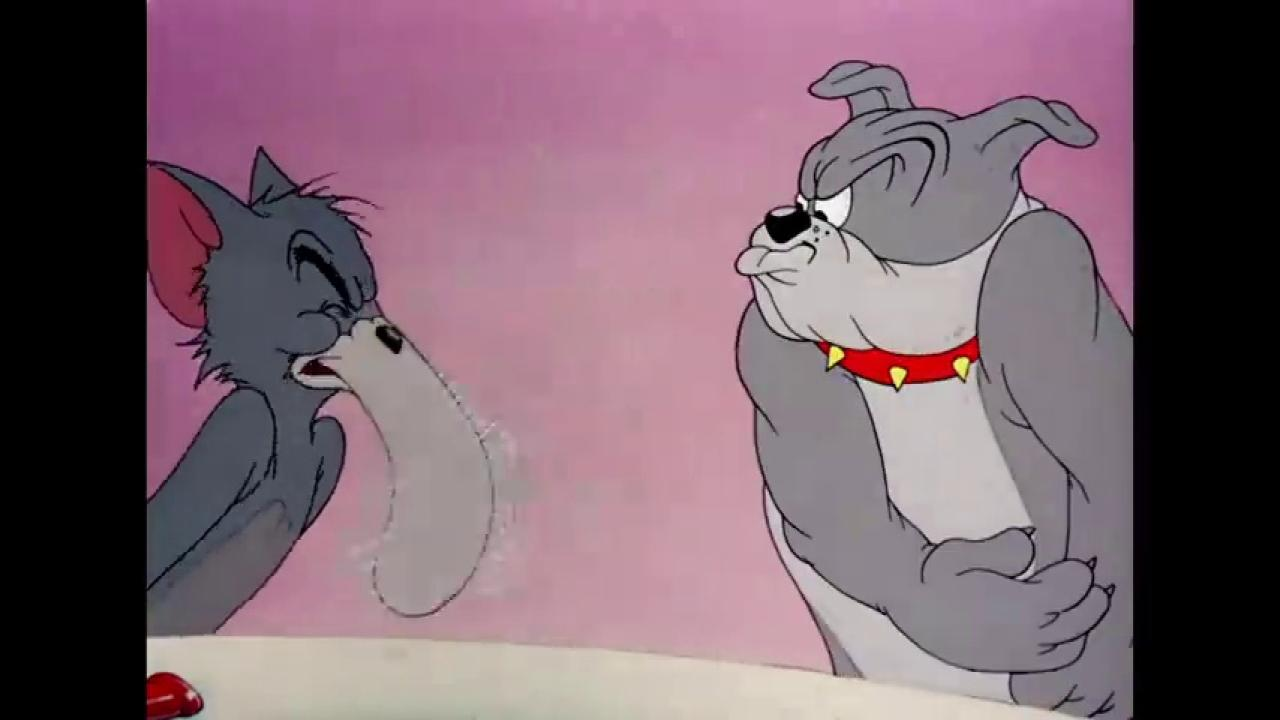Tom: (146, 142, 496, 636)
